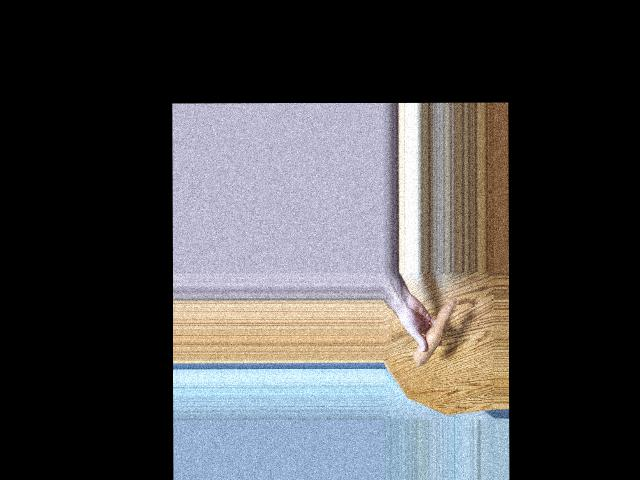sweet_potato: (415, 298, 451, 373)
